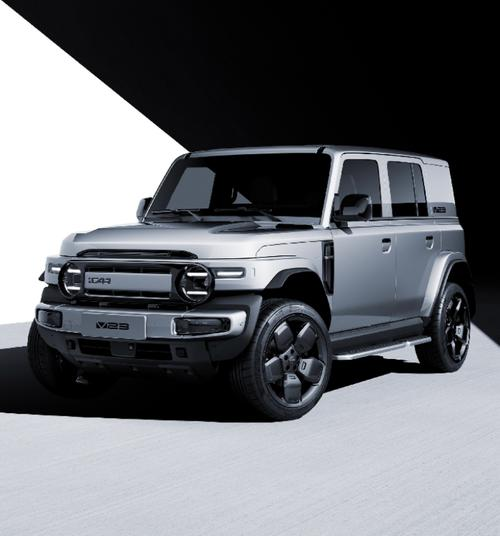汽车: (23, 148, 475, 420)
